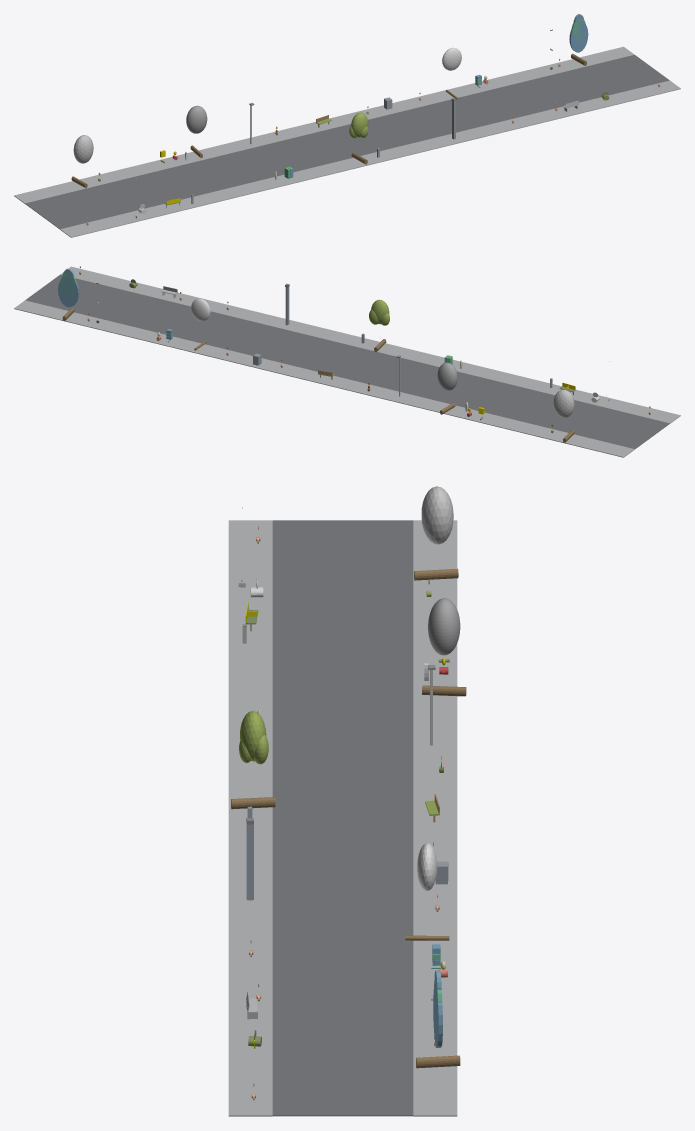
3 views of the same model, one above another, from view 1: azimuth 30°, elevation 25°; view 2: azimuth 150°, elevation 25°; view 3: azimuth 270°, elevation 25° (orthographic). The views are drawn at different scales.
Visible parts, largest first — view 1: road_slab, sidewalk_left, sidewalk_right, inst_0016, inst_0012, inst_0013, inst_0014, inst_0015; view 2: road_slab, sidewalk_right, sidewalk_left, inst_0016, inst_0012, inst_0013, inst_0014, inst_0015; view 3: road_slab, sidewalk_left, sidewalk_right, inst_0012, inst_0013, inst_0014, inst_0016, inst_0015.
Part boxes in pixels (x1,y1,x2,y2): road_slab: (25,54,669,229); sidewalk_left: (60,80,680,237); sidewalk_right: (14,46,634,203); inst_0016: (569,14,588,65); inst_0012: (71,135,93,188); inst_0013: (186,105,207,158); inst_0014: (349,112,368,164); inst_0015: (442,47,461,99); road_slab: (25,274,669,449); sidewalk_right: (14,300,634,457); sidewalk_left: (60,266,680,423); inst_0016: (58,268,78,321); inst_0012: (553,389,574,442); inst_0013: (437,362,457,414); inst_0014: (369,299,389,351); inst_0015: (191,298,210,350); road_slab: (272,520,413,1116); sidewalk_left: (228,520,272,1116); sidewalk_right: (413,520,457,1116); inst_0012: (414,486,458,580); inst_0013: (422,598,466,696); inst_0014: (231,711,275,809); inst_0016: (416,970,460,1068); inst_0015: (405,843,449,940).
Bounding box in the file's own units: 80 × 6.08 × 13.51.
